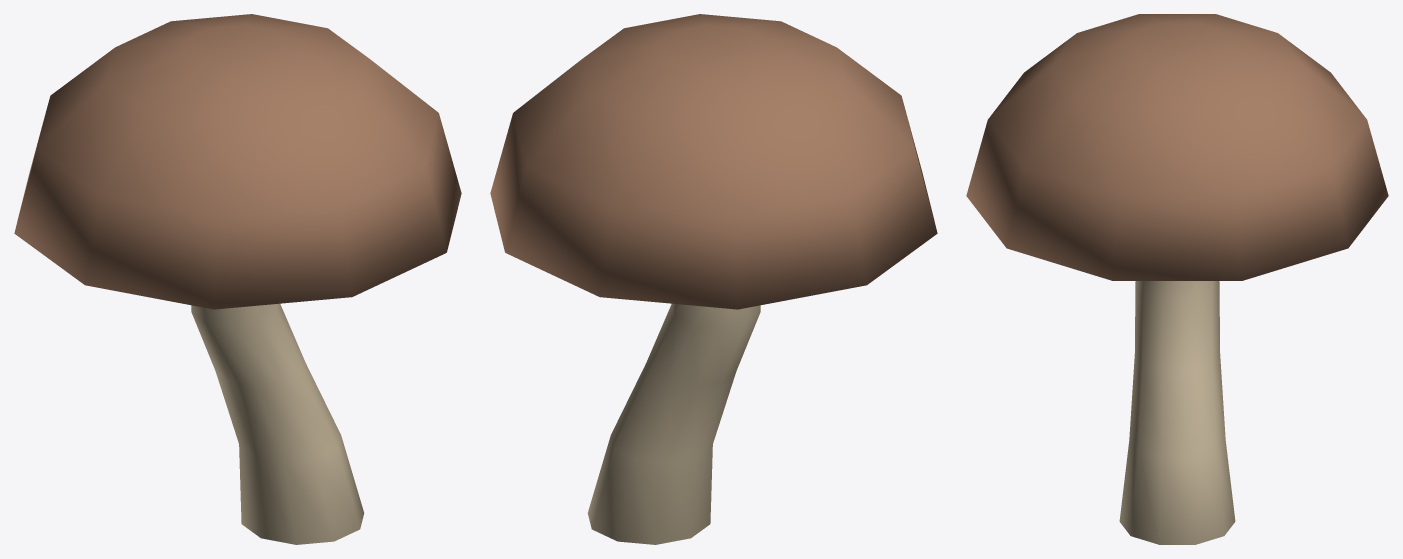
The model's file is Mushroom_LightBrown_Tall_3.fbx.
3 views of the same model, side by side, from view 1: azimuth 30°, elevation 25°; view 2: azimuth 150°, elevation 25°; view 3: azimuth 270°, elevation 25° (orthographic). The views are drawn at different scales.
Visible parts, largest first — view 1: Cylinder.517, Cylinder.516; view 2: Cylinder.517, Cylinder.516; view 3: Cylinder.517, Cylinder.516.
Boxes of the visible parts, <box> form: Cylinder.517: <box>14,14,461,309</box>; Cylinder.516: <box>191,303,364,544</box>; Cylinder.517: <box>490,14,937,309</box>; Cylinder.516: <box>587,303,760,544</box>; Cylinder.517: <box>966,14,1388,280</box>; Cylinder.516: <box>1119,281,1235,544</box>.
Bounding box in the file's own units: 77.71 × 95.82 × 81.71.
